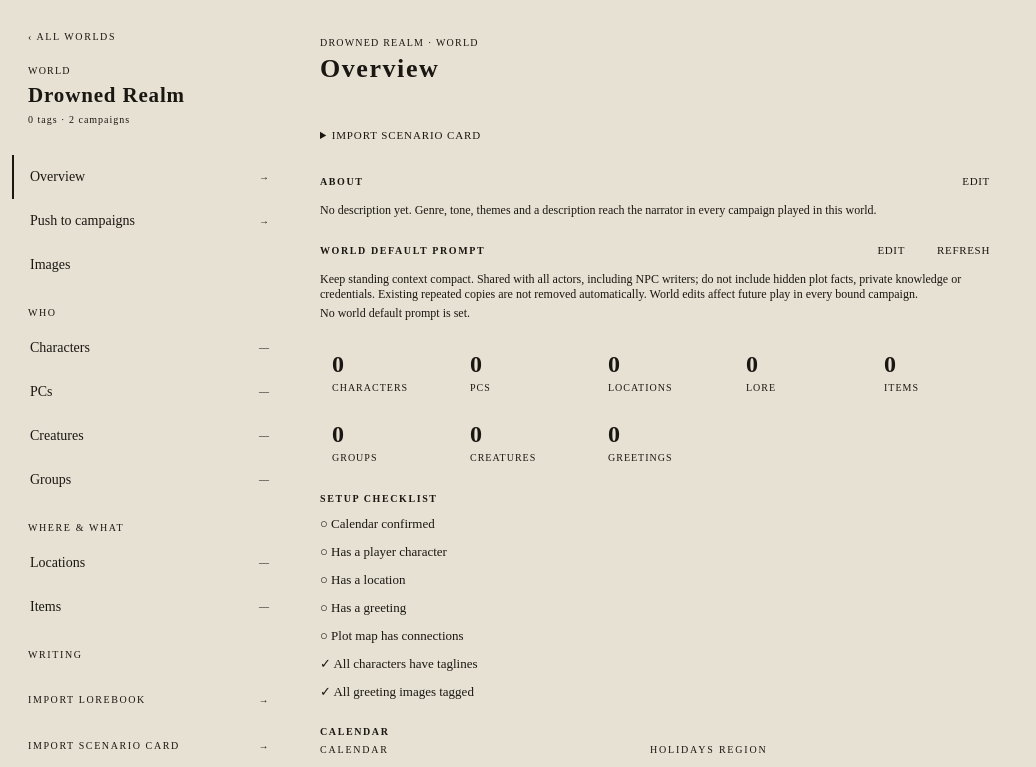
Test case: picking a section swaps main and leaves the index standing
Expected: the heading "Drowned Realm" is shown, x1=28 y1=82 x2=185 y2=106
Click the link "Locations —".
click(58, 562)  # box x1=30 y1=555 x2=270 y2=570
(page scrolled)
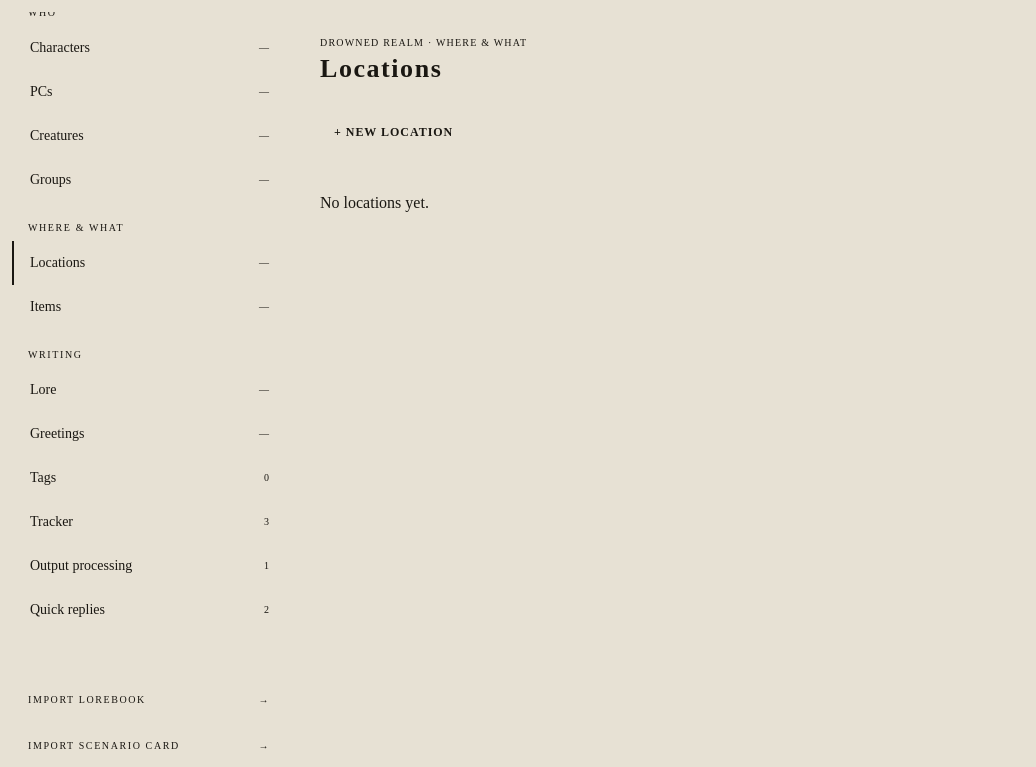
Expected: the heading "Locations" is shown, x1=320 y1=54 x2=442 y2=82
Expected: the link "Tags 0" is shown, x1=30 y1=470 x2=270 y2=485
